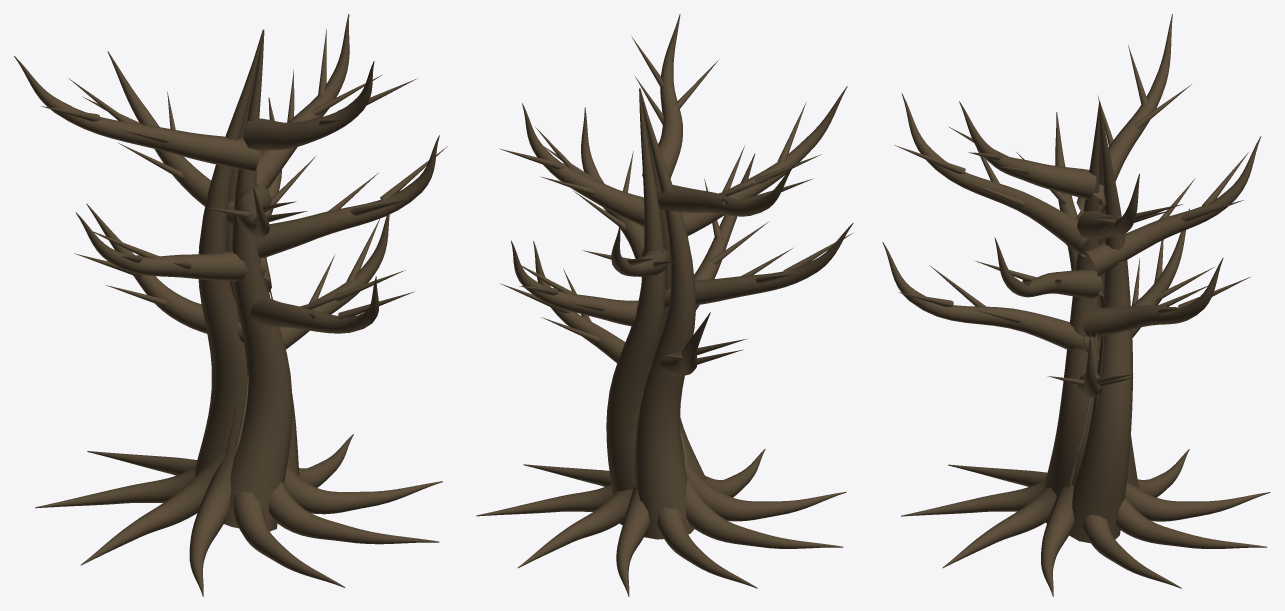
The model's file is root_snag.glb.
3 renders of one model, left to right at view 1: azimuth 30°, elevation 25°; view 2: azimuth 150°, elevation 25°; view 3: azimuth 270°, elevation 25°, orthographic. The views are drawn at different scales.
Visible parts, largest first — view 1: Bark ridge.018; view 2: Bark ridge.018; view 3: Bark ridge.018.
Part boxes in pixels (left/top/right/bottom): Bark ridge.018: left=14, top=14, right=447, bottom=596; Bark ridge.018: left=476, top=14, right=853, bottom=596; Bark ridge.018: left=882, top=14, right=1270, bottom=596.
Bounding box in the file's own units: 3.32 × 4.32 × 3.38.
